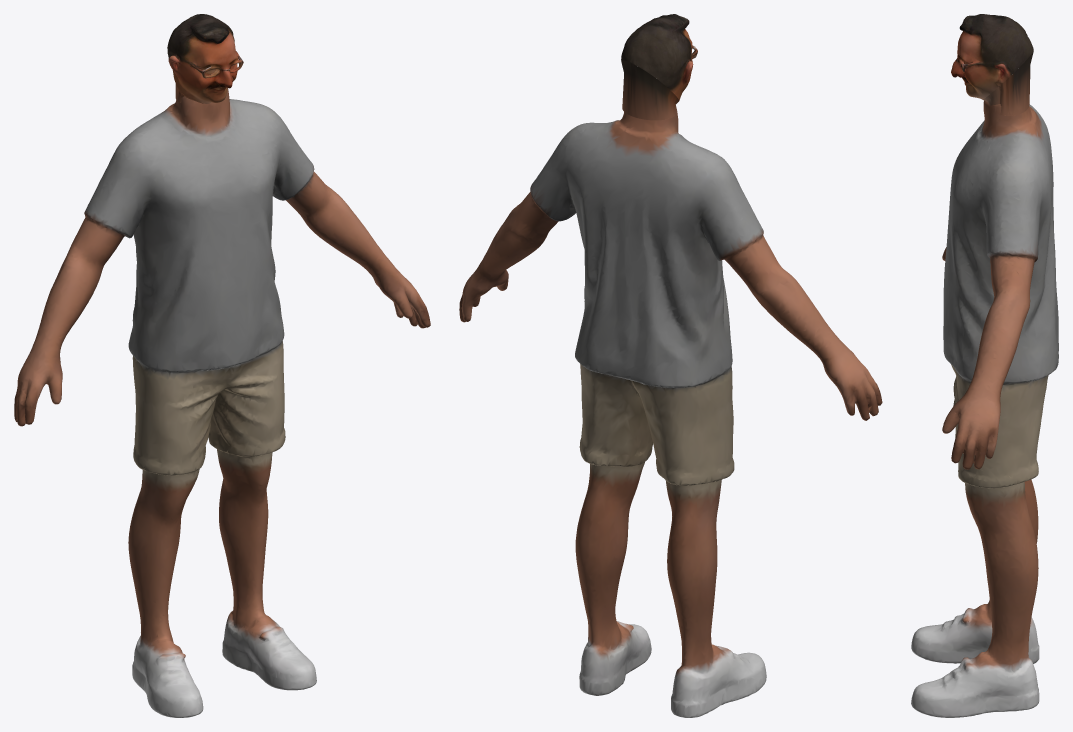
Rendered from jackson-tshirt-shorts.glb.
3 views of the same model, side by side, from view 1: azimuth 30°, elevation 25°; view 2: azimuth 150°, elevation 25°; view 3: azimuth 270°, elevation 25° (orthographic).
Visible parts, largest first — view 1: body_tshirt_shorts, head_neck_textured; view 2: body_tshirt_shorts, head_neck_textured; view 3: body_tshirt_shorts, head_neck_textured.
Boxes of the visible parts, x1,y1,x2,y2 form: body_tshirt_shorts: (14, 84, 430, 717); head_neck_textured: (167, 14, 243, 103); body_tshirt_shorts: (459, 60, 882, 717); head_neck_textured: (621, 14, 697, 100); body_tshirt_shorts: (911, 51, 1058, 717); head_neck_textured: (951, 14, 1033, 99).
Size of the model in its own units: 1.17 by 1.8 by 0.3647.
Materials: 2 (1 with a texture image).
